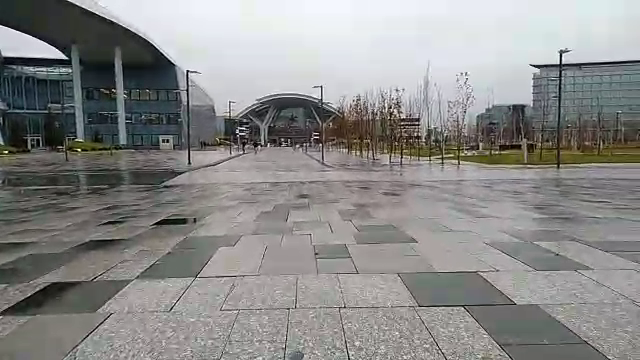mega: (232, 87, 358, 162)
